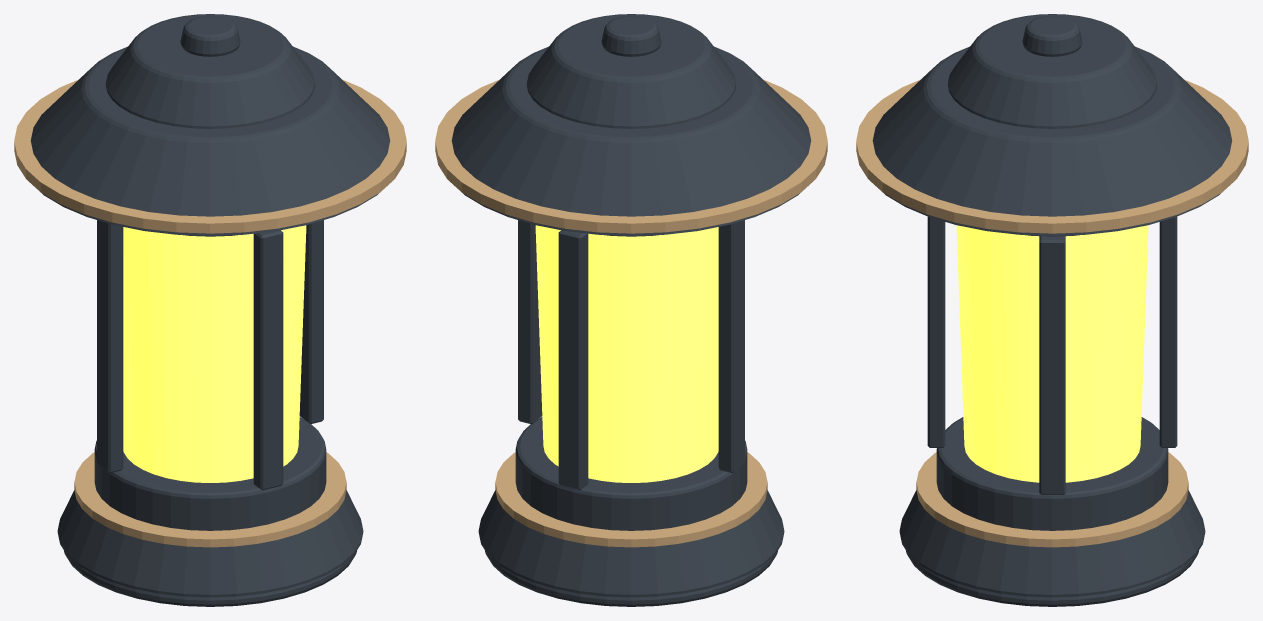
Rendered from cantina_06_table_lamp.glb.
3 views of the same model, side by side, from view 1: azimuth 30°, elevation 25°; view 2: azimuth 150°, elevation 25°; view 3: azimuth 270°, elevation 25° (orthographic).
Parts seen in each view (by area): view 1: Lamp_Cap_Hood, Lamp_Amber_Diffuser, Lamp_Base, Lamp_Cage_Struts, Lamp_Cap_Bronze_Trim, Lamp_Base_Trim; view 2: Lamp_Cap_Hood, Lamp_Amber_Diffuser, Lamp_Base, Lamp_Cage_Struts, Lamp_Cap_Bronze_Trim, Lamp_Base_Trim; view 3: Lamp_Cap_Hood, Lamp_Amber_Diffuser, Lamp_Base, Lamp_Cage_Struts, Lamp_Cap_Bronze_Trim, Lamp_Base_Trim.
Part boxes in pixels (x1,y1,x2,y2): Lamp_Cap_Hood: (30,14,390,236); Lamp_Amber_Diffuser: (123,225,306,482); Lamp_Base: (57,417,363,606); Lamp_Cage_Struts: (97,220,323,490); Lamp_Cap_Bronze_Trim: (14,79,406,233); Lamp_Base_Trim: (74,452,346,547); Lamp_Cap_Hood: (451,14,811,236); Lamp_Amber_Diffuser: (535,225,718,482); Lamp_Base: (478,417,784,606); Lamp_Cage_Struts: (518,220,744,490); Lamp_Cap_Bronze_Trim: (435,79,827,233); Lamp_Base_Trim: (495,452,767,547); Lamp_Cap_Hood: (872,14,1232,236); Lamp_Amber_Diffuser: (956,225,1148,482); Lamp_Base: (899,417,1205,606); Lamp_Cage_Struts: (927,217,1177,494); Lamp_Cap_Bronze_Trim: (856,79,1248,233); Lamp_Base_Trim: (916,452,1188,547).
Size of the model in its own units: 0.1778 by 0.26 by 0.1778.
